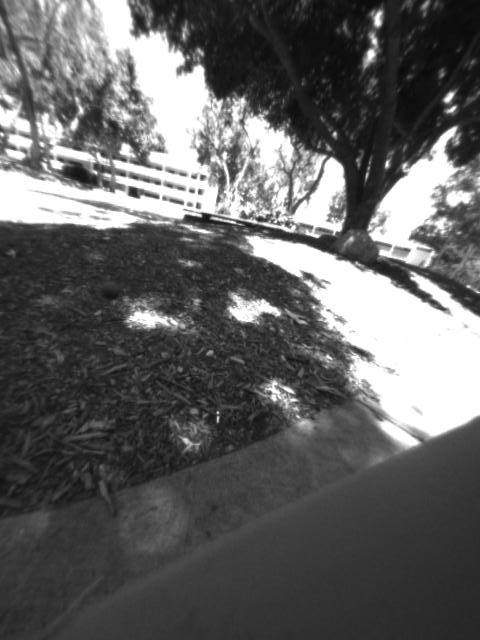dogtoy: (93, 275, 130, 304)
